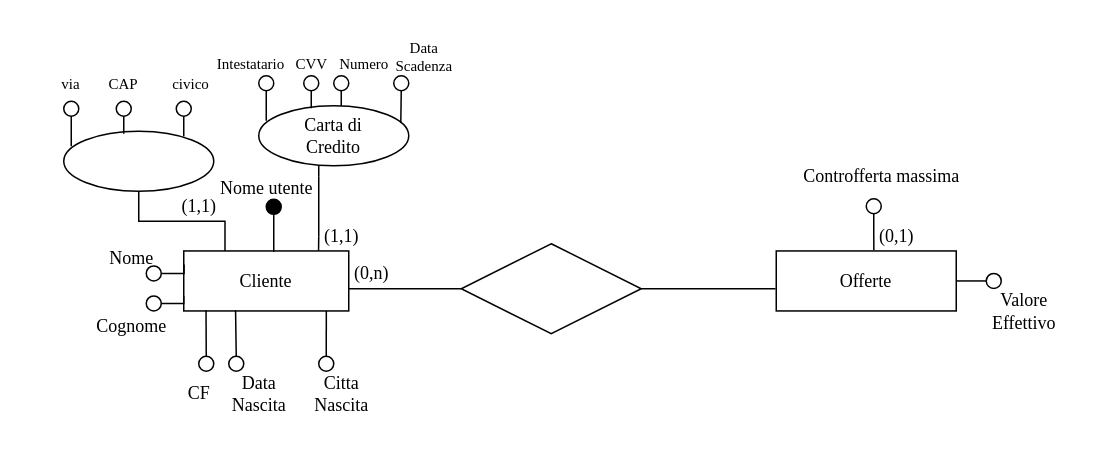
Some shapes in this 1101 by 449 pixel diagram are drawn without their labels. Here are the shapes that lost their labels. From the top down, the centre of each, then its label:
pixel 138 160: Indirizzo di spedizione
pixel 550 288: Formulare
